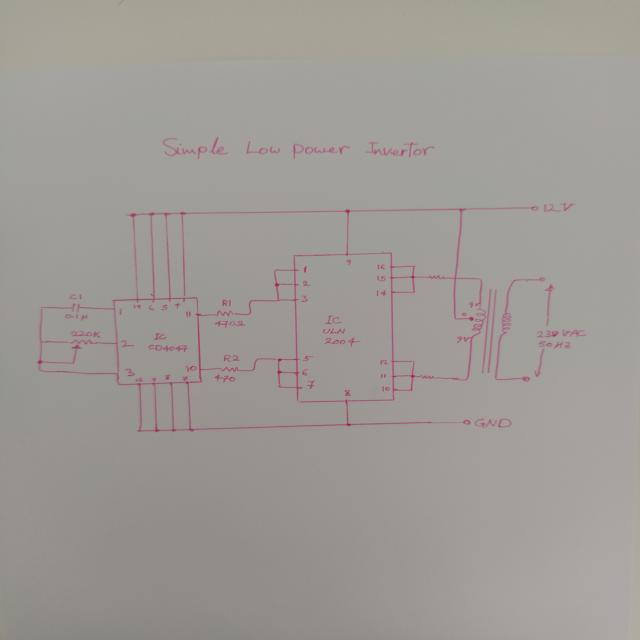capacitor: (70, 302, 81, 313)
crossover: (452, 276, 458, 280)
junction: (124, 212, 137, 218), (457, 207, 467, 212), (343, 208, 351, 214), (274, 357, 283, 362), (344, 422, 352, 427), (408, 373, 416, 378), (163, 212, 172, 216), (178, 211, 187, 215), (36, 359, 43, 364), (136, 428, 143, 433), (273, 282, 280, 287), (462, 376, 469, 381), (153, 428, 161, 432), (170, 428, 178, 432), (476, 277, 484, 281), (38, 339, 44, 344), (452, 316, 458, 321), (148, 212, 155, 216), (188, 428, 195, 432), (409, 275, 416, 279), (253, 357, 260, 361), (276, 370, 283, 374), (511, 278, 518, 282), (38, 306, 44, 310), (37, 368, 43, 372), (272, 268, 278, 272), (275, 298, 281, 302), (248, 298, 254, 302), (411, 290, 417, 294), (492, 377, 498, 381), (247, 312, 252, 316), (411, 264, 416, 268), (251, 368, 256, 372), (70, 361, 76, 364), (276, 385, 282, 388), (408, 388, 414, 391), (410, 360, 415, 362)
resistor: (68, 338, 94, 349), (214, 310, 235, 316), (220, 366, 240, 372), (428, 274, 447, 280), (418, 374, 437, 380)
terminal: (520, 375, 530, 382), (536, 276, 546, 282), (529, 205, 539, 211), (461, 418, 471, 424)
text: (161, 135, 436, 160), (535, 329, 587, 338), (473, 417, 512, 428), (323, 336, 361, 347), (147, 344, 189, 352), (542, 202, 575, 212), (537, 340, 571, 349), (213, 319, 246, 328), (69, 329, 101, 338), (214, 373, 236, 383), (321, 327, 346, 335), (64, 313, 88, 321), (323, 314, 342, 324), (222, 354, 240, 362), (152, 332, 168, 341), (119, 339, 135, 348), (455, 335, 471, 343), (374, 288, 388, 296), (124, 368, 136, 377), (68, 293, 83, 300), (184, 364, 197, 372), (221, 298, 232, 307), (467, 301, 480, 308), (342, 388, 352, 397), (302, 355, 314, 362), (306, 380, 315, 389), (376, 274, 386, 282), (376, 262, 386, 270), (184, 310, 193, 318), (299, 294, 308, 302), (378, 359, 390, 365), (300, 280, 310, 287), (380, 385, 390, 392), (117, 308, 125, 316), (301, 368, 309, 376), (132, 304, 142, 310), (147, 304, 155, 311), (345, 258, 352, 266), (301, 266, 308, 274), (160, 304, 169, 310), (379, 373, 388, 379), (134, 377, 144, 382), (164, 373, 171, 380), (174, 302, 181, 309), (150, 376, 157, 382), (181, 375, 188, 381), (461, 312, 466, 316)
transformer: (465, 287, 512, 373)
